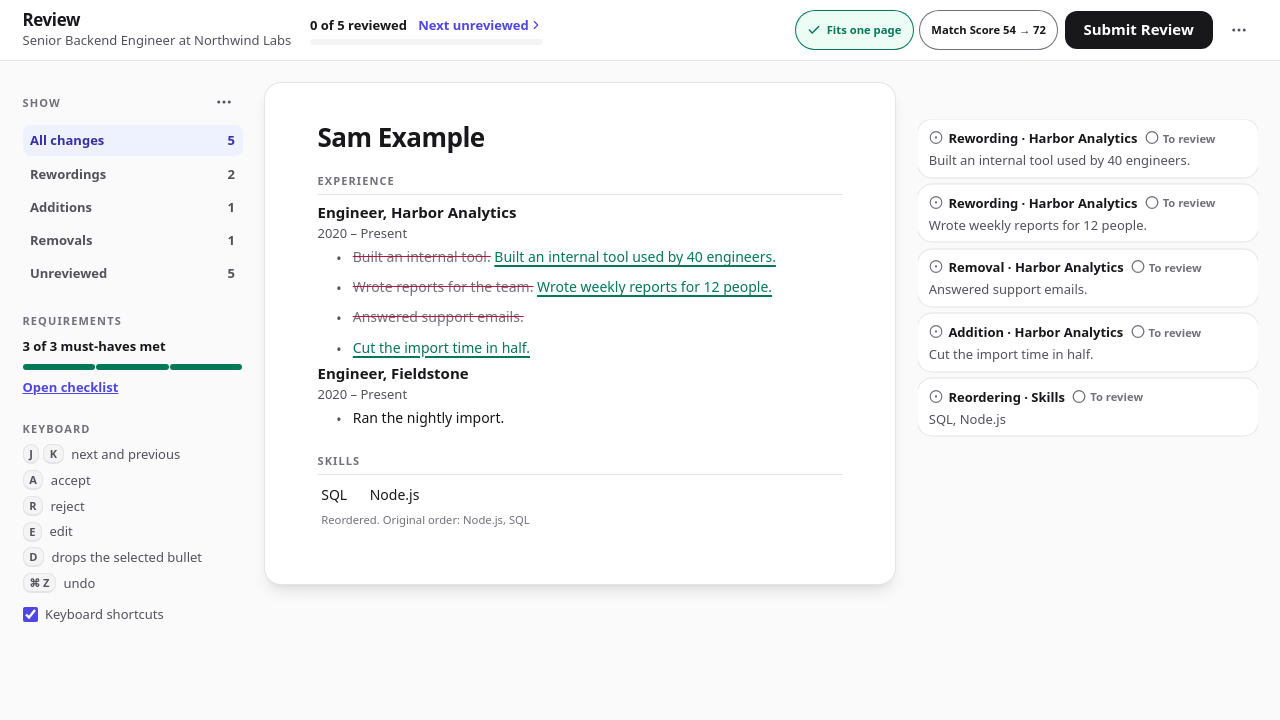
it: Review screen: dropping bullets › refuses with review.md's words for each reason
Step 1. Click the button "Ran the nightly import." → (428, 417), box left=349, top=405, right=842, bottom=432
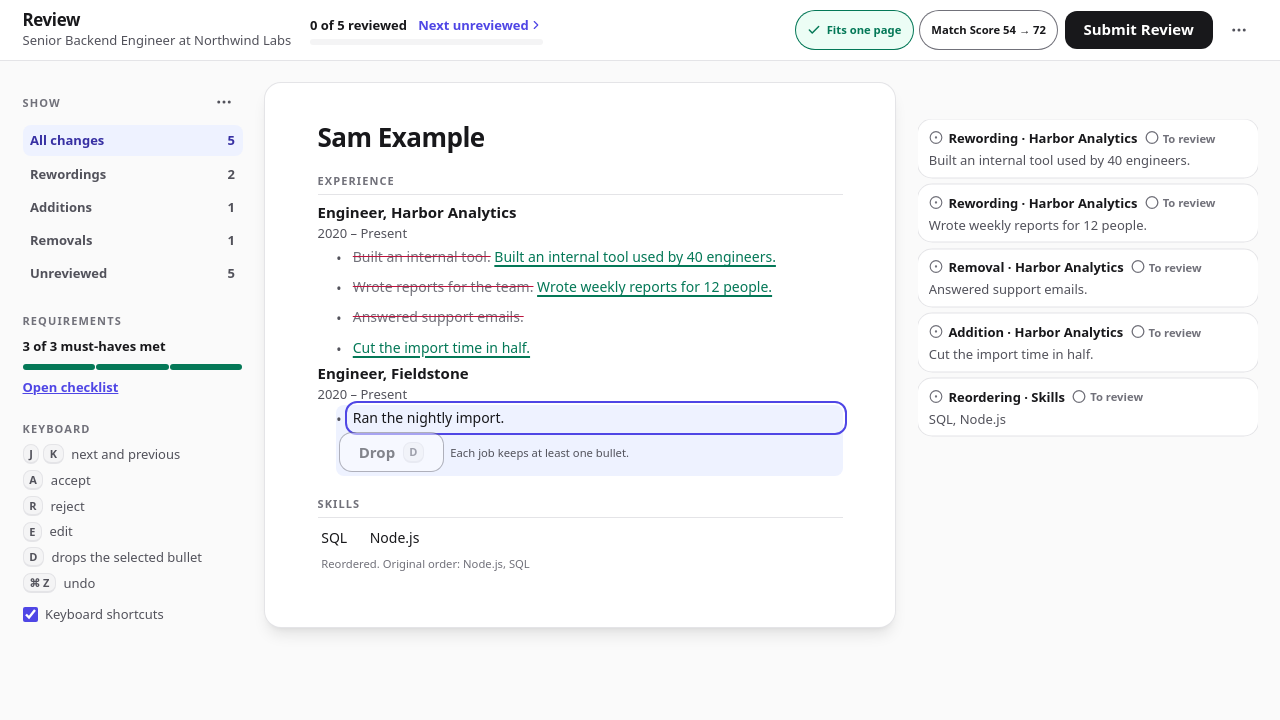
expect the text "Each job keeps at least one bullet." is shown: met, box left=450, top=445, right=629, bottom=460
expect the button "Drop D" is disabled: met, box left=340, top=433, right=443, bottom=471
Step 2. Click the button that starts with "Wrote reports for the team." → (596, 288), box left=349, top=274, right=842, bottom=301
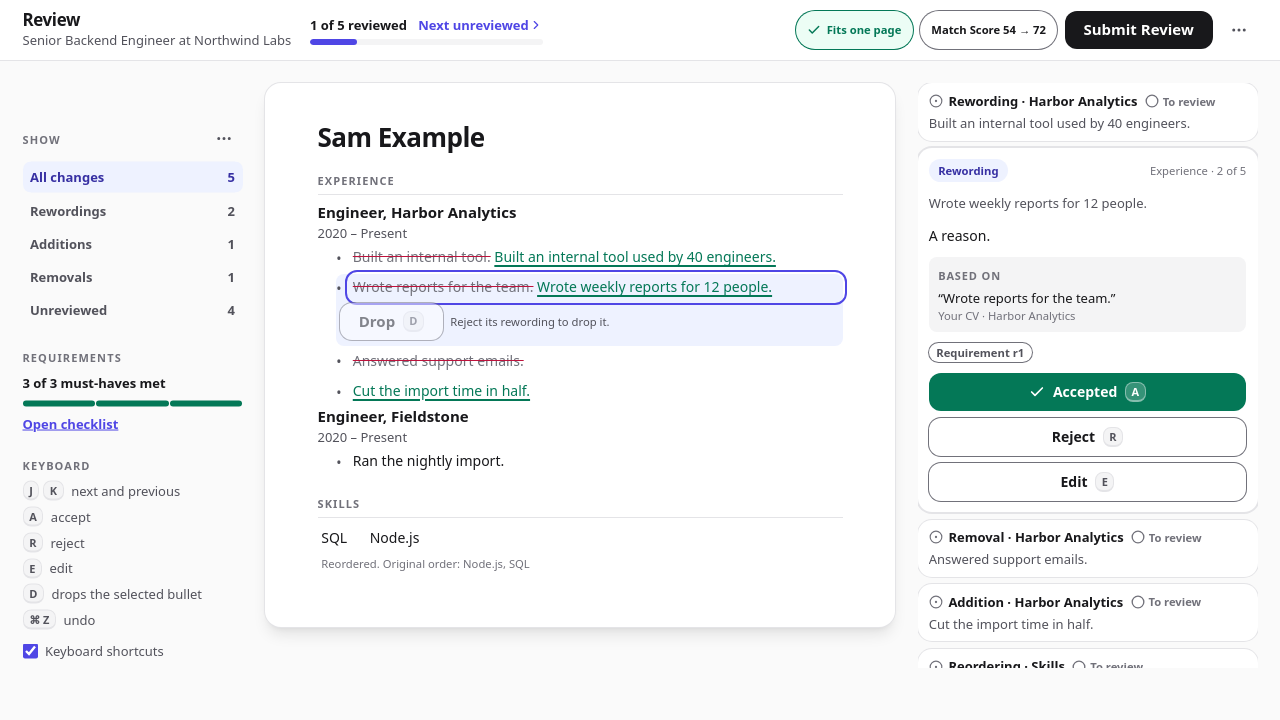
expect the text "Reject its rewording to drop it." is shown: met, box left=450, top=314, right=610, bottom=329
Step 3. Click the button "Answered support emails." → (384, 359), box left=349, top=348, right=842, bottom=374
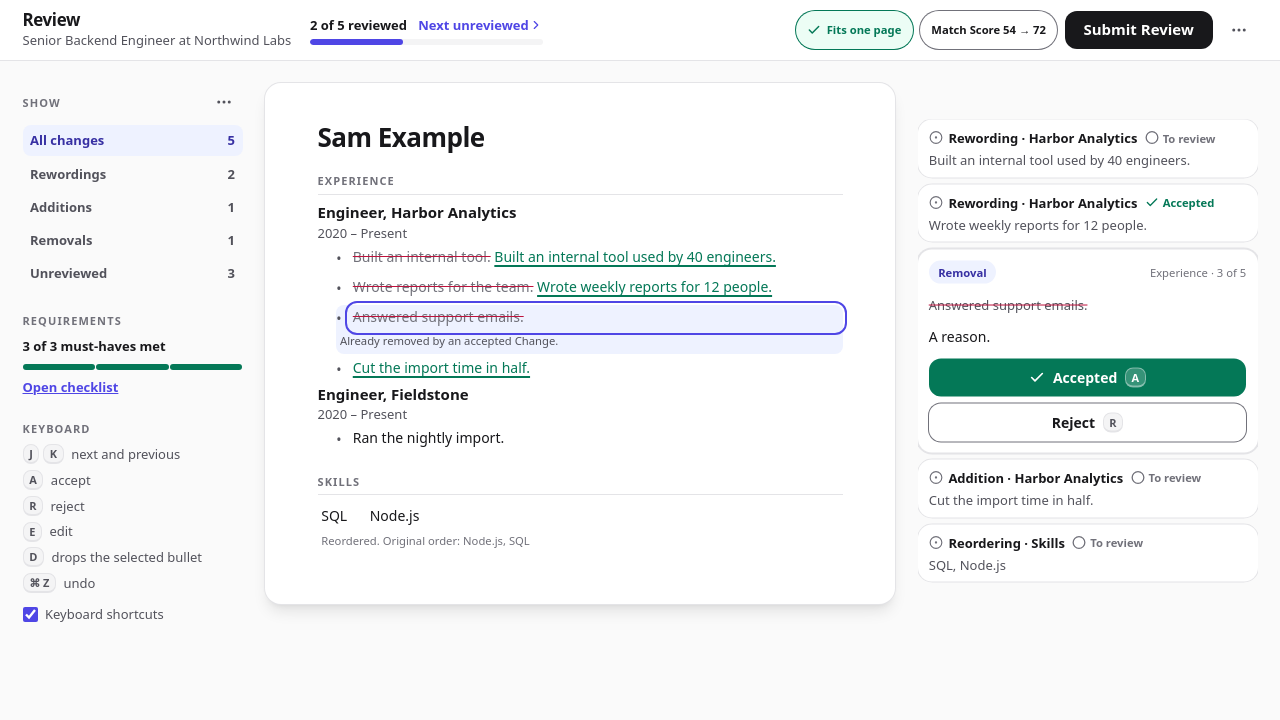
expect the text "Already removed by an accepted Change." is shown: met, box left=340, top=333, right=558, bottom=348
